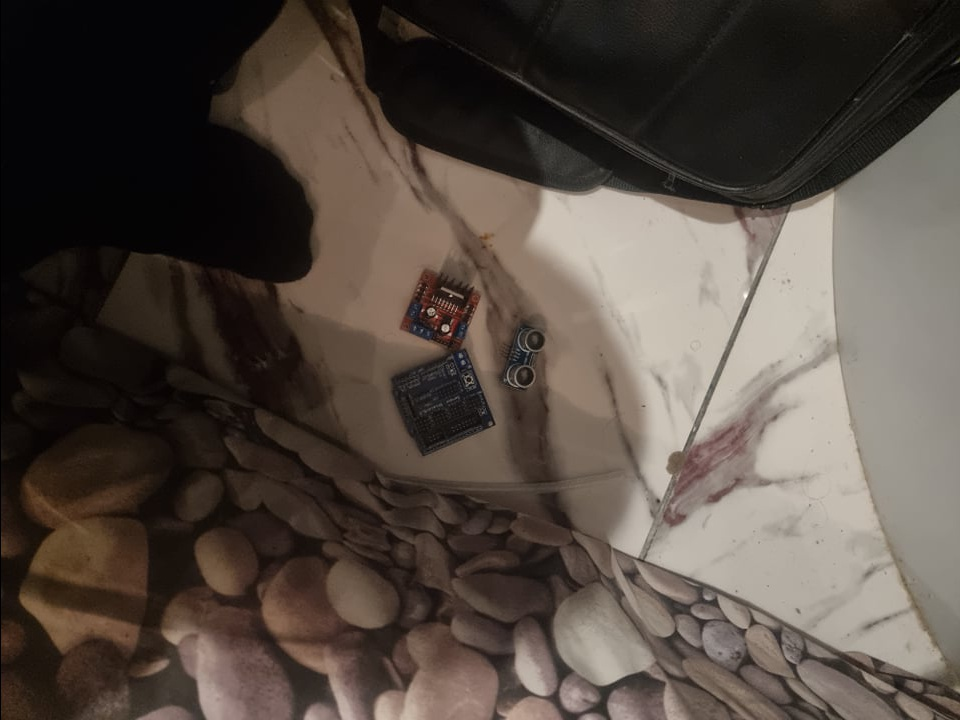5V EXPANSION: (390, 350, 494, 455)
MOTOR: (397, 269, 480, 347)
SENSOR: (498, 327, 545, 393)
